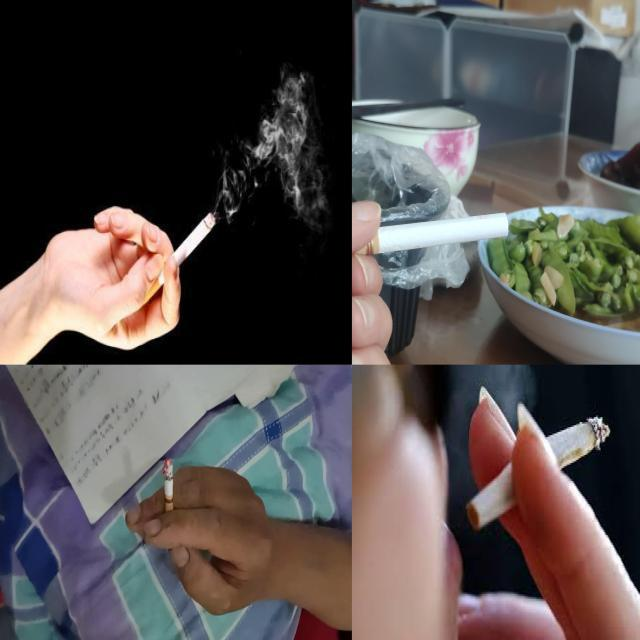smoking: (468, 416, 611, 530), (352, 213, 510, 268), (137, 212, 216, 310), (163, 457, 174, 526)
